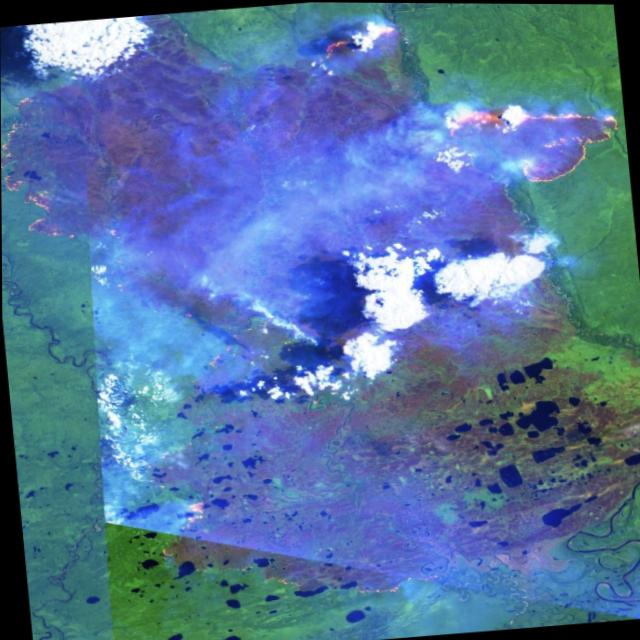fire: (145, 476, 447, 616), (0, 78, 147, 322), (434, 85, 630, 196), (291, 6, 408, 79)
